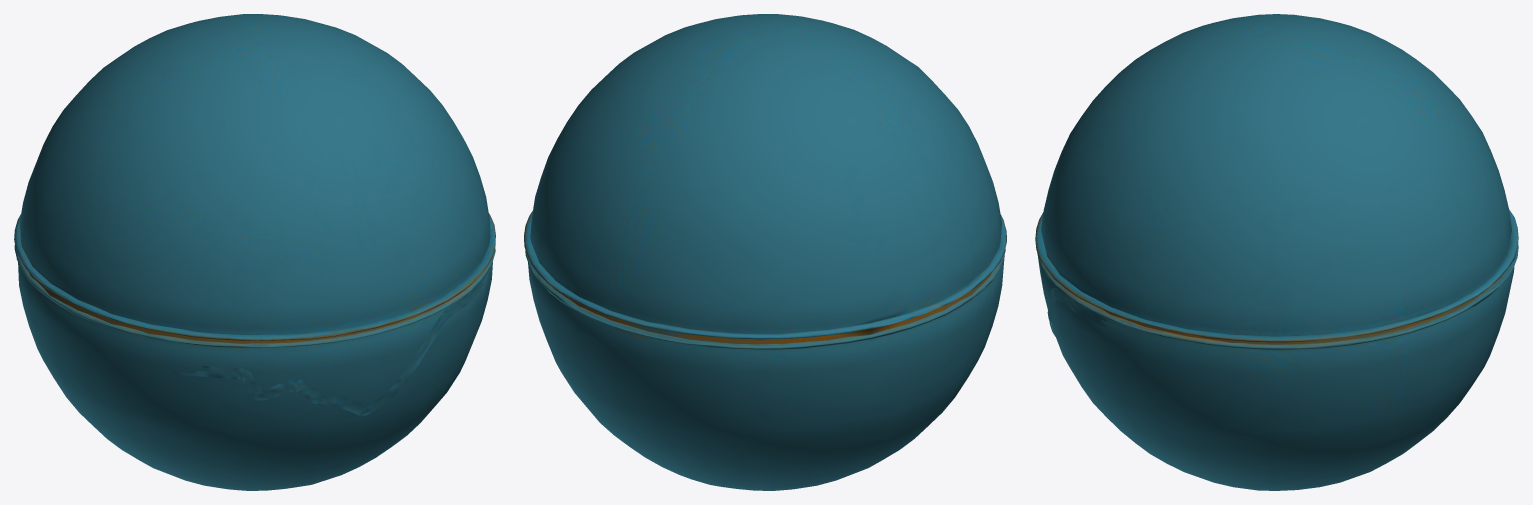
Rendered from kraft_schild.glb.
3 renders of one model, left to right at view 1: azimuth 30°, elevation 25°; view 2: azimuth 150°, elevation 25°; view 3: azimuth 270°, elevation 25°, orthographic.
Visible parts, largest first — view 1: tripo_node_6c233c45-a05b-4e4d-9b94-47f075b01cd3; view 2: tripo_node_6c233c45-a05b-4e4d-9b94-47f075b01cd3; view 3: tripo_node_6c233c45-a05b-4e4d-9b94-47f075b01cd3.
Boxes of the visible parts, box(x1,y1,x2,y2) form: tripo_node_6c233c45-a05b-4e4d-9b94-47f075b01cd3: box(14, 14, 495, 490); tripo_node_6c233c45-a05b-4e4d-9b94-47f075b01cd3: box(524, 14, 1006, 490); tripo_node_6c233c45-a05b-4e4d-9b94-47f075b01cd3: box(1035, 14, 1518, 490).
Bounding box in the file's own units: 0.998 × 0.9824 × 0.998.
Materials: 1 (1 with a texture image).
